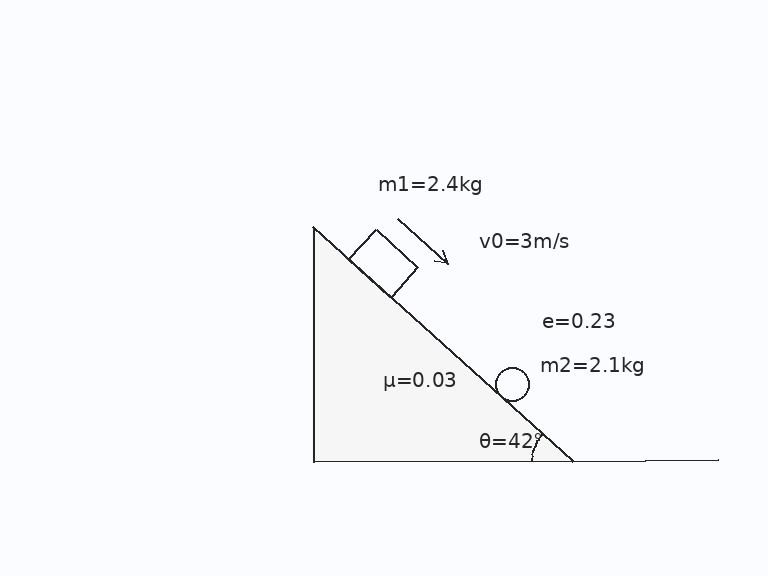ball: (493, 365, 531, 403)
block: (347, 228, 419, 299)
ramp: (311, 225, 574, 463)
